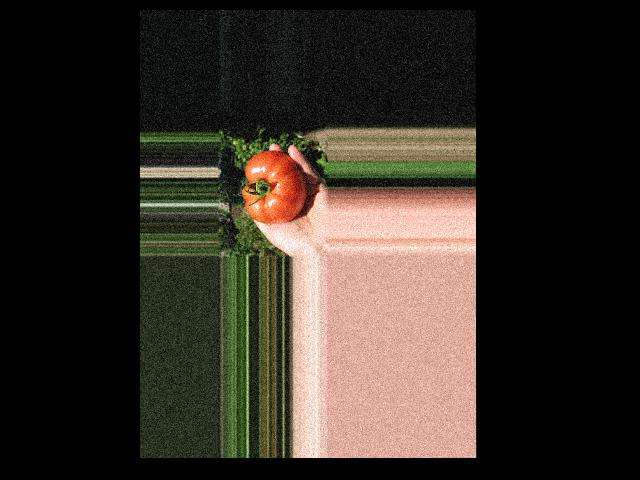tomato: (242, 150, 306, 223)
